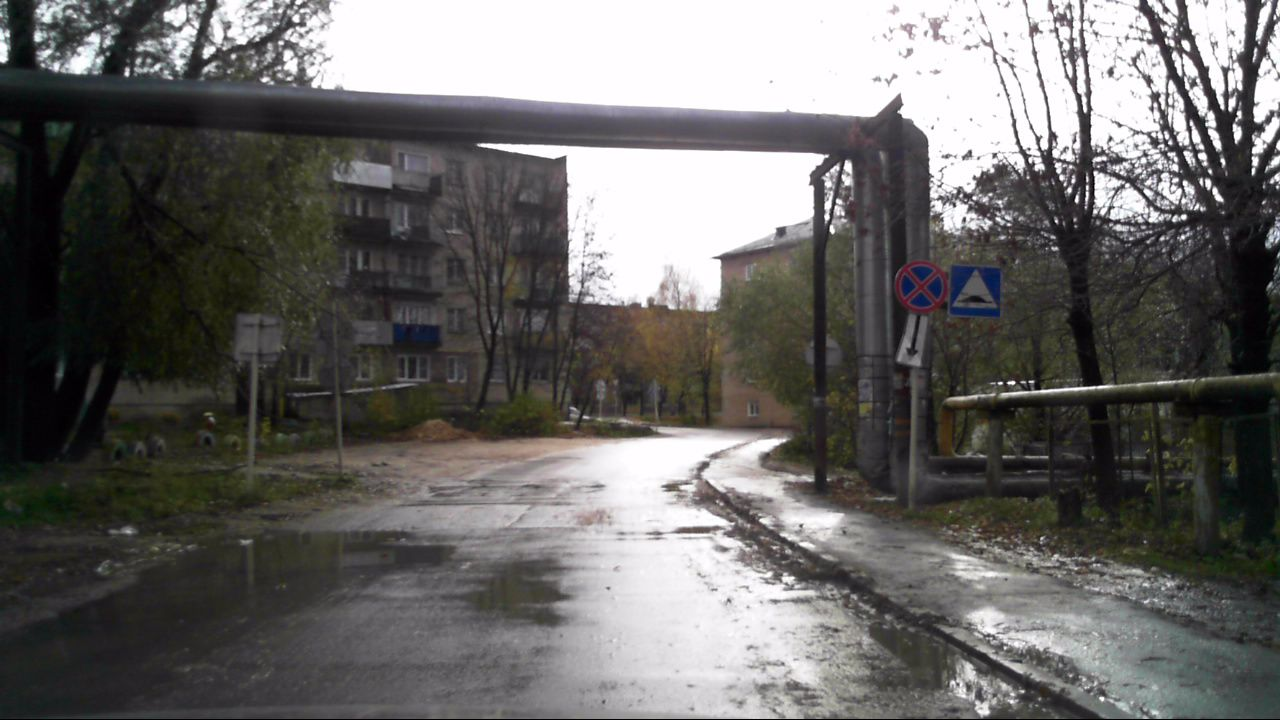No Parking: (893, 261, 946, 313)
